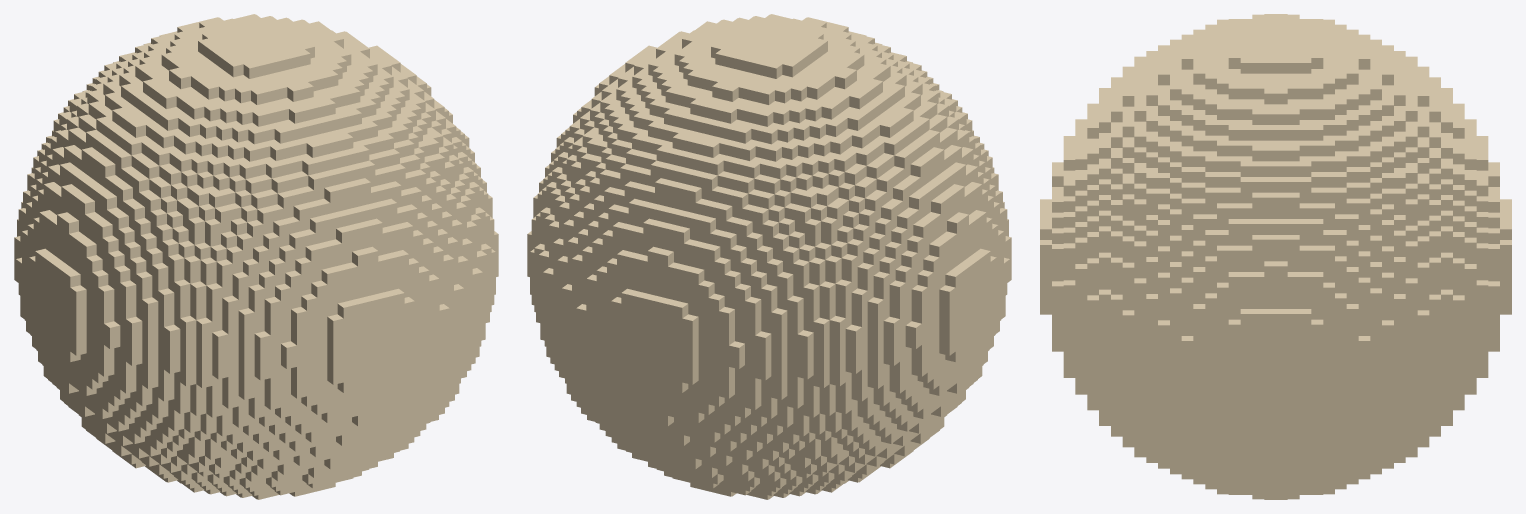
File: ball.obj
3 views of the same model, side by side, from view 1: azimuth 30°, elevation 25°; view 2: azimuth 150°, elevation 25°; view 3: azimuth 270°, elevation 25° (orthographic).
Size of the model in its own units: 4 by 4 by 4.
Materials: 1 (1 with a texture image).
